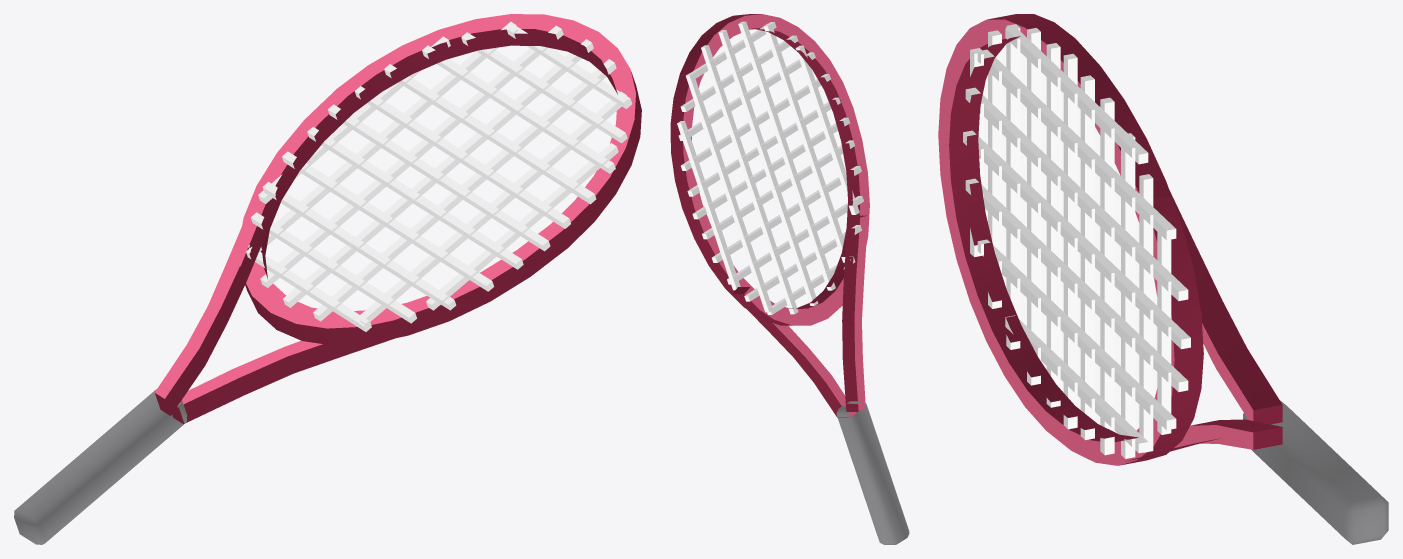
Rendered from ps2_save-icons_princeoftennissweattears2.glb.
3 views of the same model, side by side, from view 1: azimuth 30°, elevation 25°; view 2: azimuth 150°, elevation 25°; view 3: azimuth 270°, elevation 25° (orthographic). The views are drawn at different scales.
Parts seen in each view (by area): view 1: STATIC.ICO; view 2: STATIC.ICO; view 3: STATIC.ICO.
Boxes of the visible parts, left/top/right/bottom form: STATIC.ICO: left=14, top=14, right=641, bottom=544; STATIC.ICO: left=670, top=14, right=909, bottom=544; STATIC.ICO: left=938, top=14, right=1388, bottom=544.
Size of the model in its own units: 3.82 by 4.3 by 2.49.
1 material, 1 textured.
